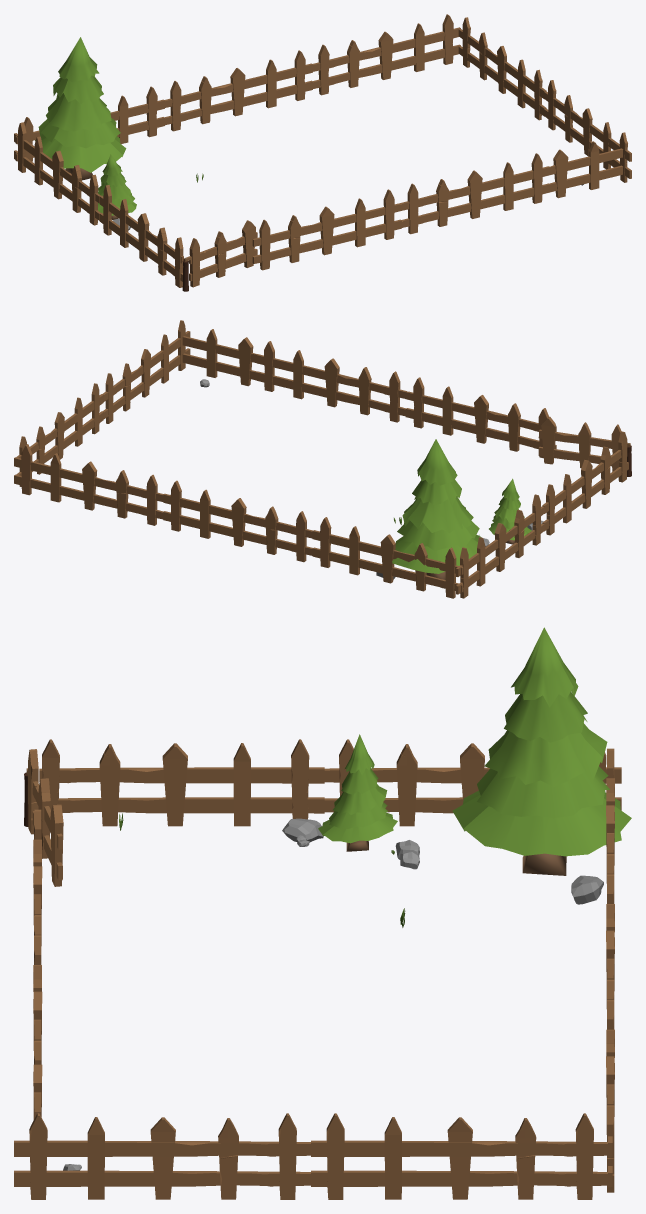
Rendered from cerca.glb.
3 views of the same model, one above another, from view 1: azimuth 30°, elevation 25°; view 2: azimuth 150°, elevation 25°; view 3: azimuth 270°, elevation 25° (orthographic). The views are drawn at different scales.
Parts seen in each view (by area): view 1: wood fence back, wood fence front, Pine Tree 2, gate, Pine Tree 3; view 2: wood fence back, wood fence front, Pine Tree 2, gate, Pine Tree 3; view 3: wood fence front, wood fence back, Pine Tree 2, Pine Tree 3, gate.
Boxes of the visible parts, x1,y1,x2,y2 form: wood fence back: (14,14,460,287); wood fence front: (252,17,631,270); Pine Tree 2: (35,37,126,180); gate: (182,220,257,291); Pine Tree 3: (98,154,136,219); wood fence back: (14,431,628,598); wood fence front: (16,320,556,486); Pine Tree 2: (392,439,481,579); gate: (538,416,631,476); Pine Tree 3: (489,478,531,544); wood fence front: (14,809,607,1199); wood fence back: (38,739,621,1192); Pine Tree 2: (452,627,631,875); Pine Tree 3: (318,734,397,851); gate: (24,749,63,886).
Size of the model in its own units: 24.08 by 7.19 by 16.66.
4 materials, 4 textured.
